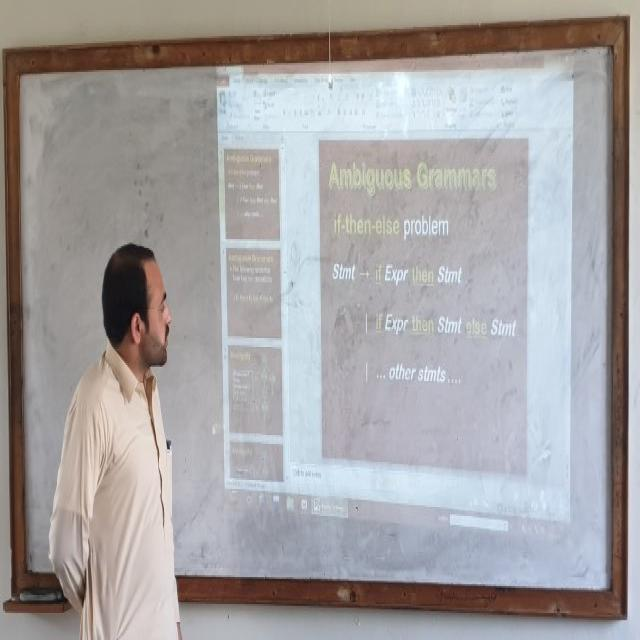Instructor: (69, 235, 183, 640)
Slide: (218, 48, 573, 546)
White-board: (14, 33, 624, 608)
